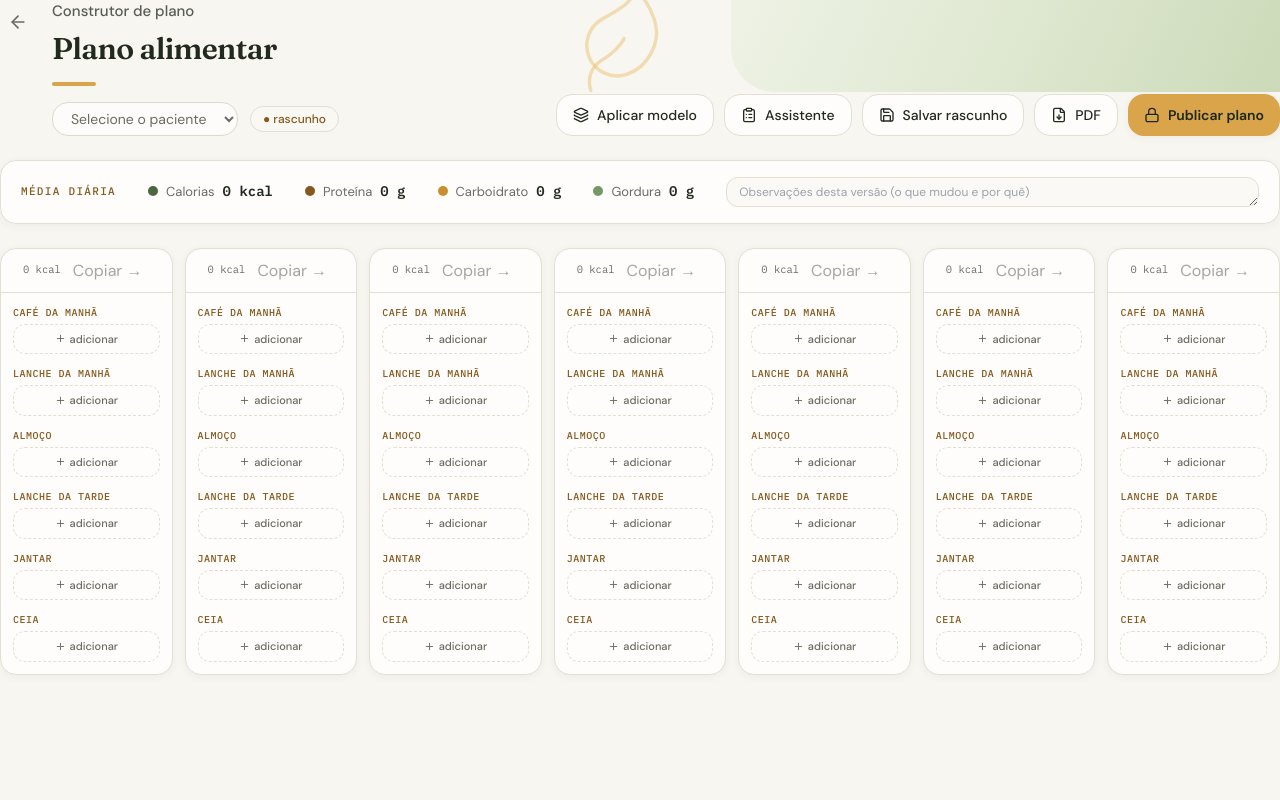
PlanBuilder — quadro semanal › ajusta a quantidade em passos de 10 g
The width and height of the screenshot is (1280, 800).
What coordinates should you click on to do the following:
click the 1st button "adicionar"
I would click on:
 (86, 339)
Its box is [13,324,160,354].
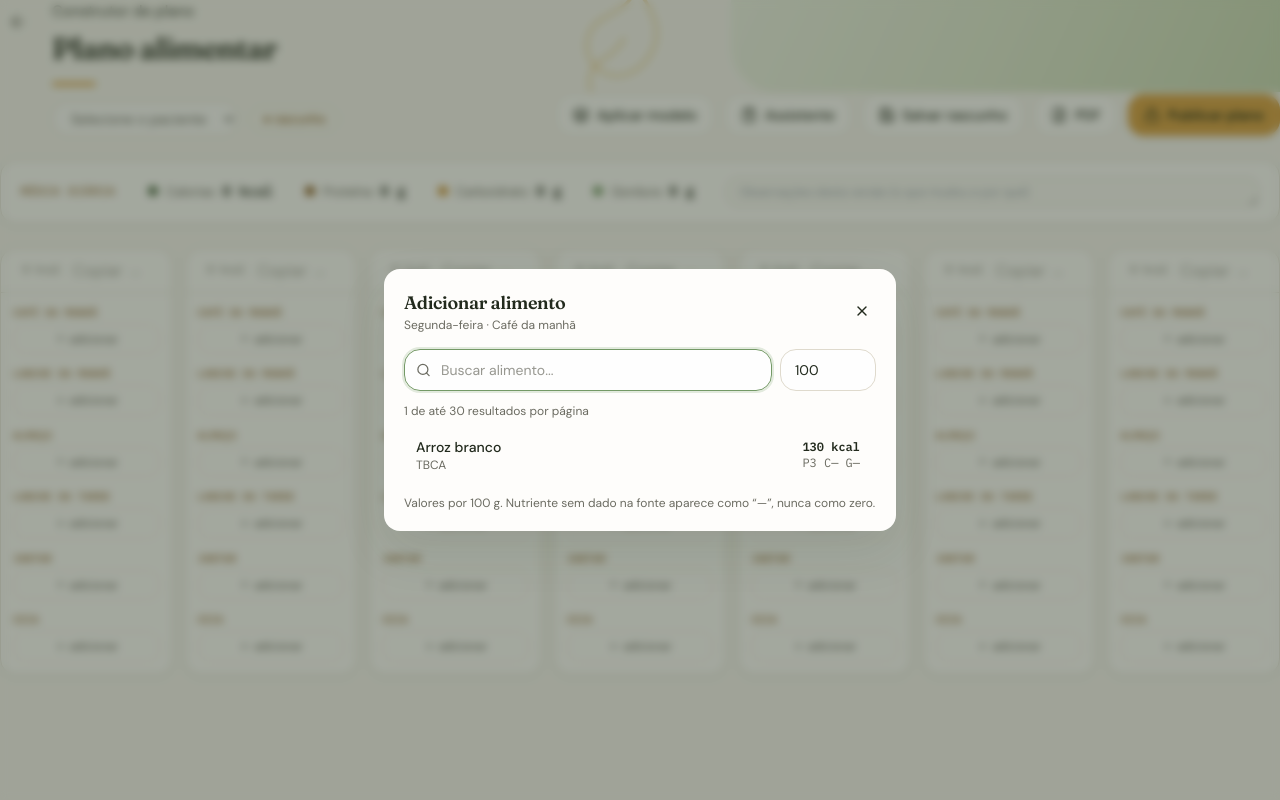
What coordinates should you click on to do the following:
click the button "Arroz branco TBCA 130 kcal P3 C— G—"
I would click on:
 (459, 447)
Its box is [404,427,872,483].
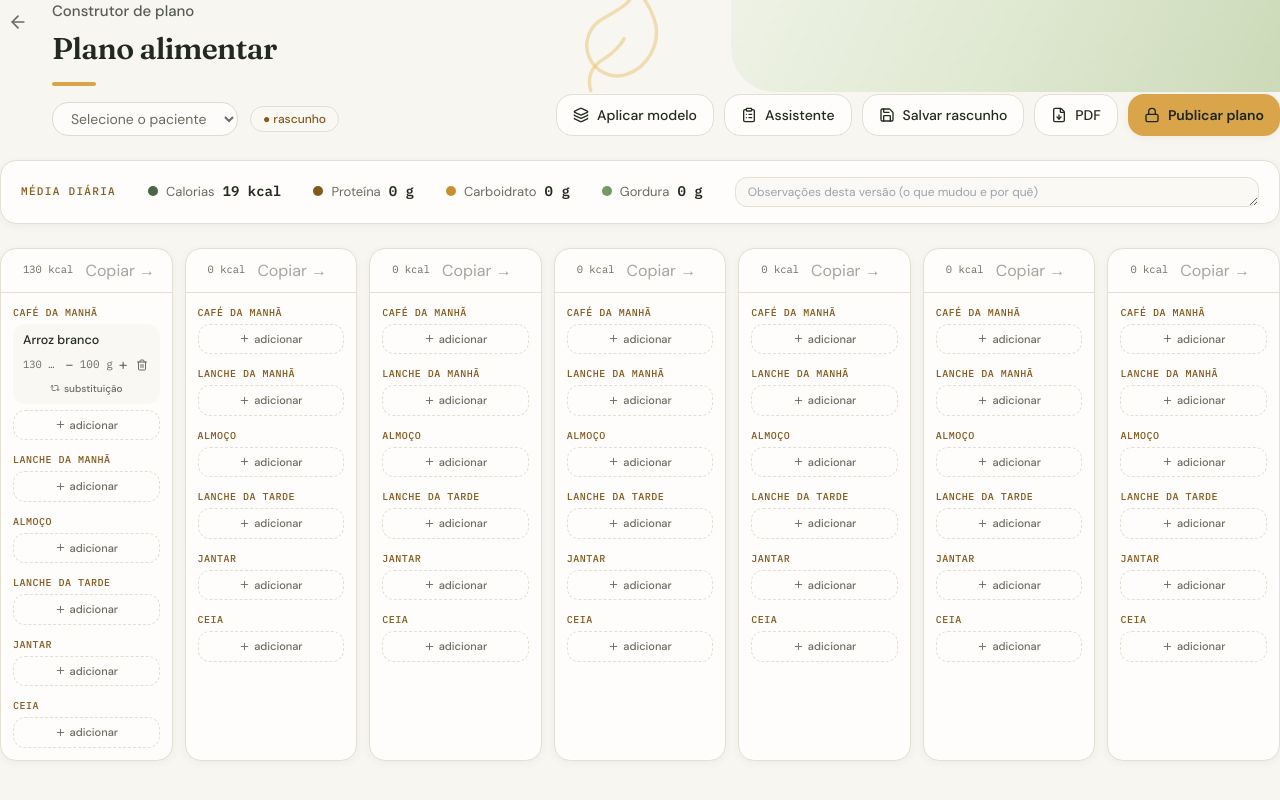
What coordinates should you click on to do the following:
click the button named "Aumentar Arroz branco"
I would click on:
 (123, 365)
Its box is [115,353,132,377].
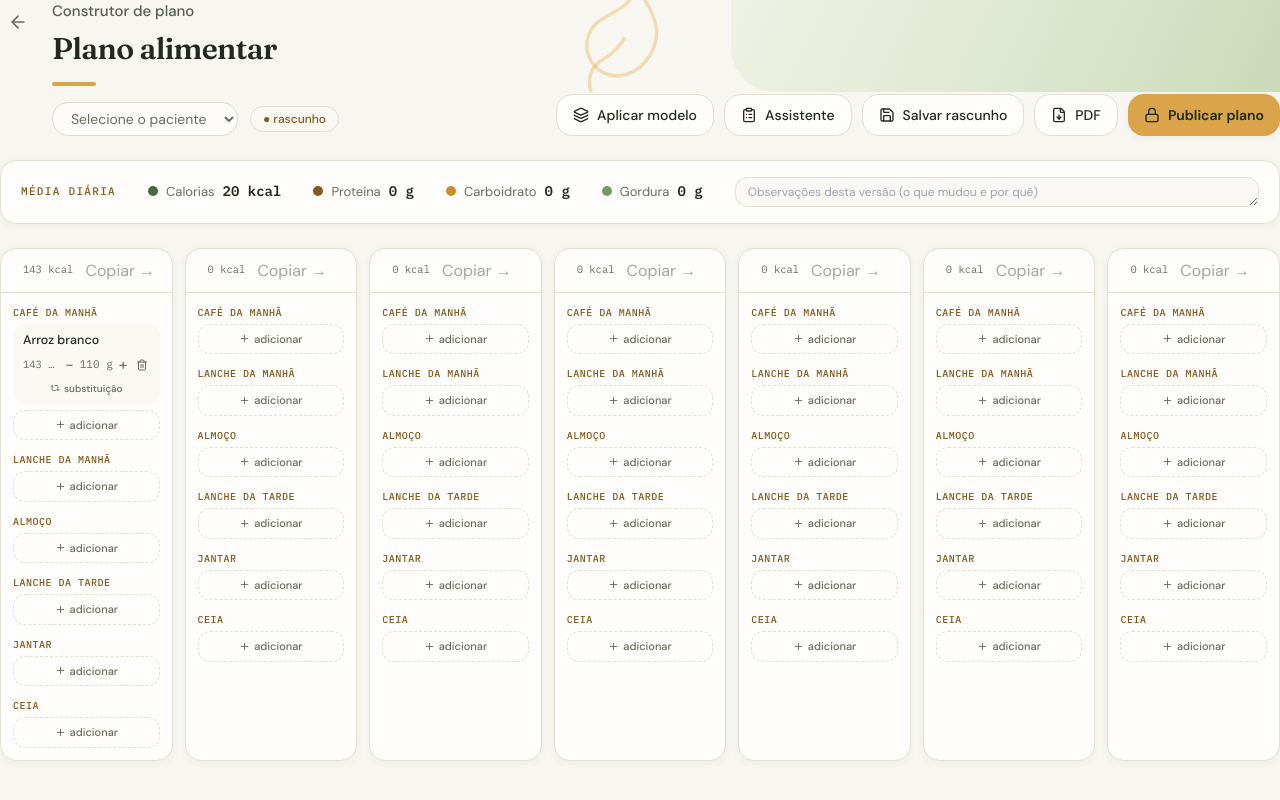
Expected: the text "110 g" is shown, [80,356,113,373]
What coordinates should you click on to do the following:
click the button named "Diminuir Arroz branco"
I would click on:
 (69, 365)
Its box is [61,353,78,377].
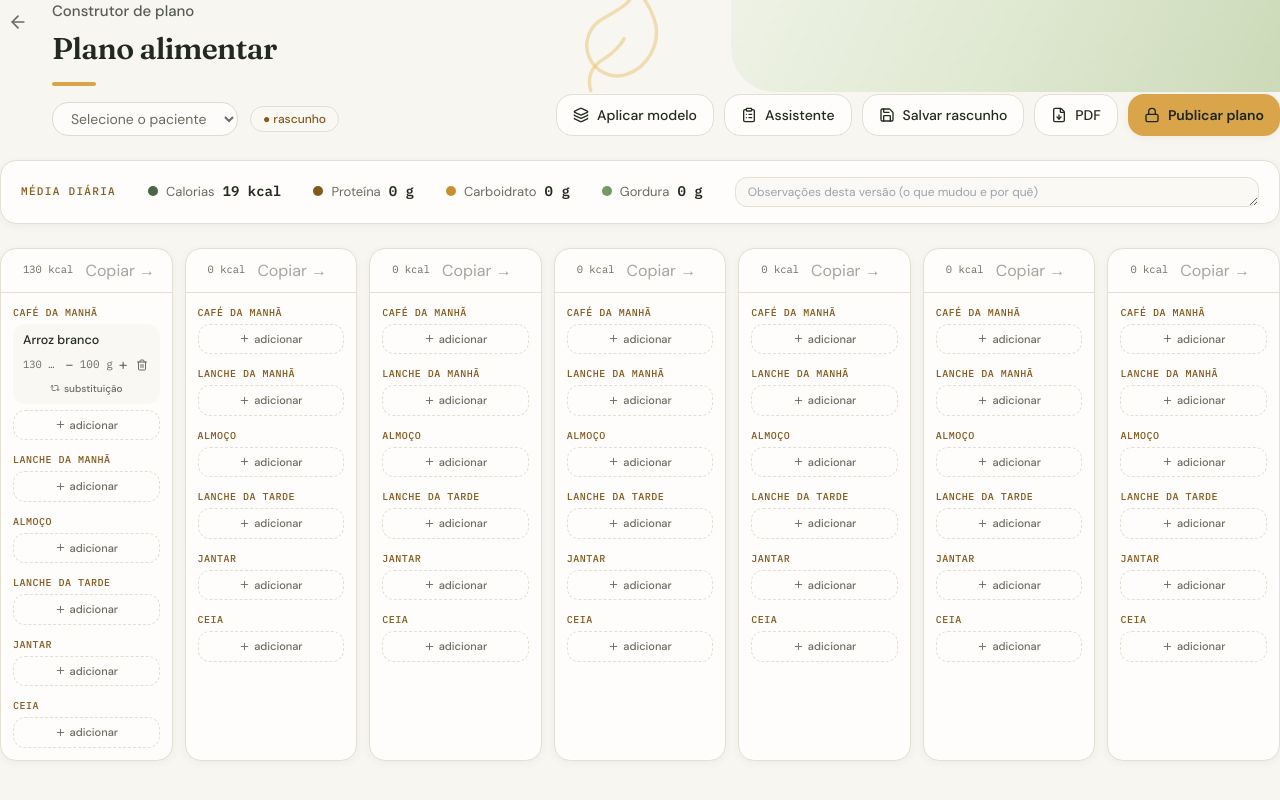
Expected: the text "100 g" is shown, [80,356,113,373]
